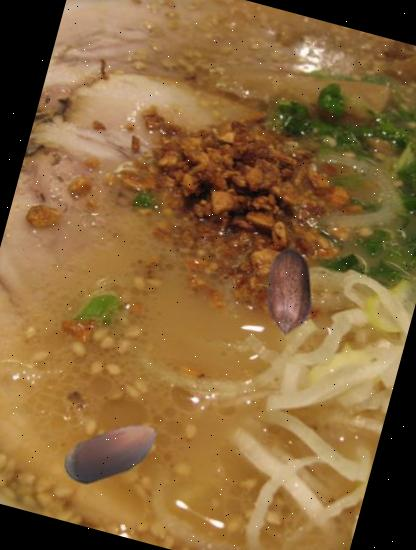Hazelnut: (50, 393, 172, 515)
Nut: (234, 237, 344, 346)
